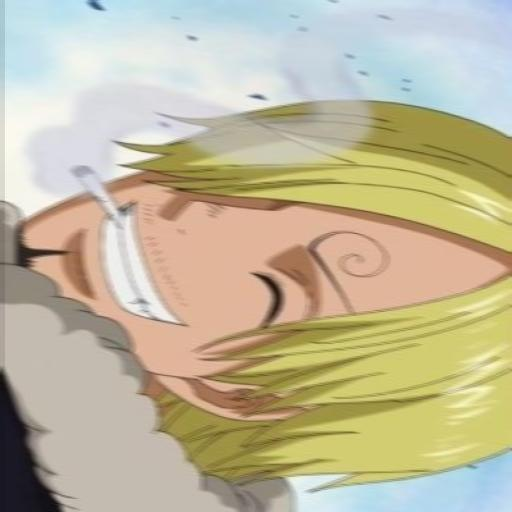sanji: (0, 68, 509, 512)
